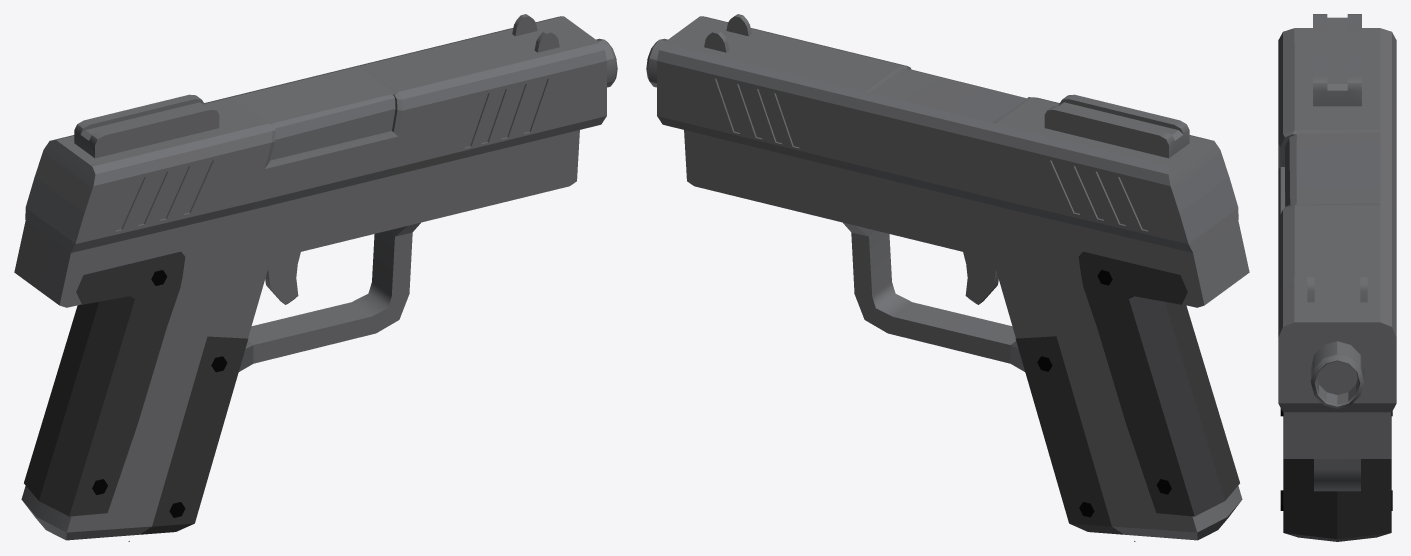
The model's file is Pistol Model.fbx.
The picture shows the model from 3 angles, left to right: view 1: azimuth 30°, elevation 25°; view 2: azimuth 150°, elevation 25°; view 3: azimuth 270°, elevation 25°; orthographic projection. The views are drawn at different scales.
Visible parts, largest first — view 1: Pistol_Model; view 2: Pistol_Model; view 3: Pistol_Model.
Part boxes in pixels (<box>): Pistol_Model: <box>14,14,617,541</box>; Pistol_Model: <box>646,14,1249,541</box>; Pistol_Model: <box>1278,14,1396,541</box>.
Bounding box in the file's own units: 20.45 × 14.44 × 3.09.
